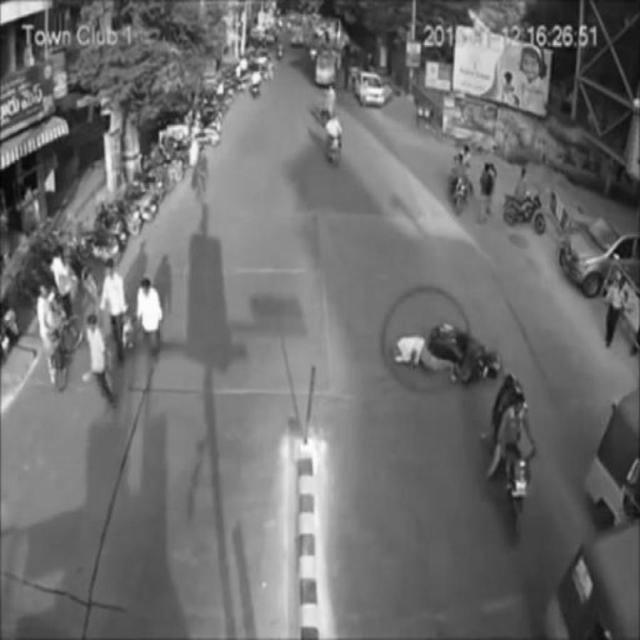person: (100, 259, 130, 363), (88, 312, 115, 410), (132, 278, 162, 366)
vehicle: (492, 371, 536, 543), (562, 218, 640, 294)
